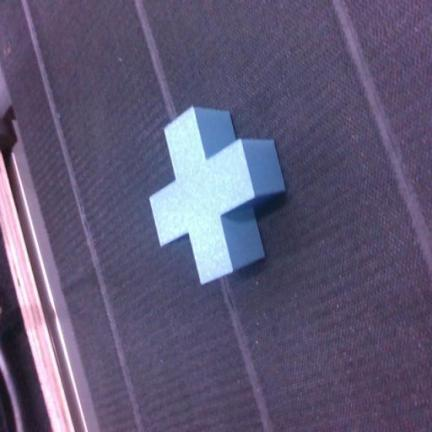cross: (151, 108, 285, 283)
